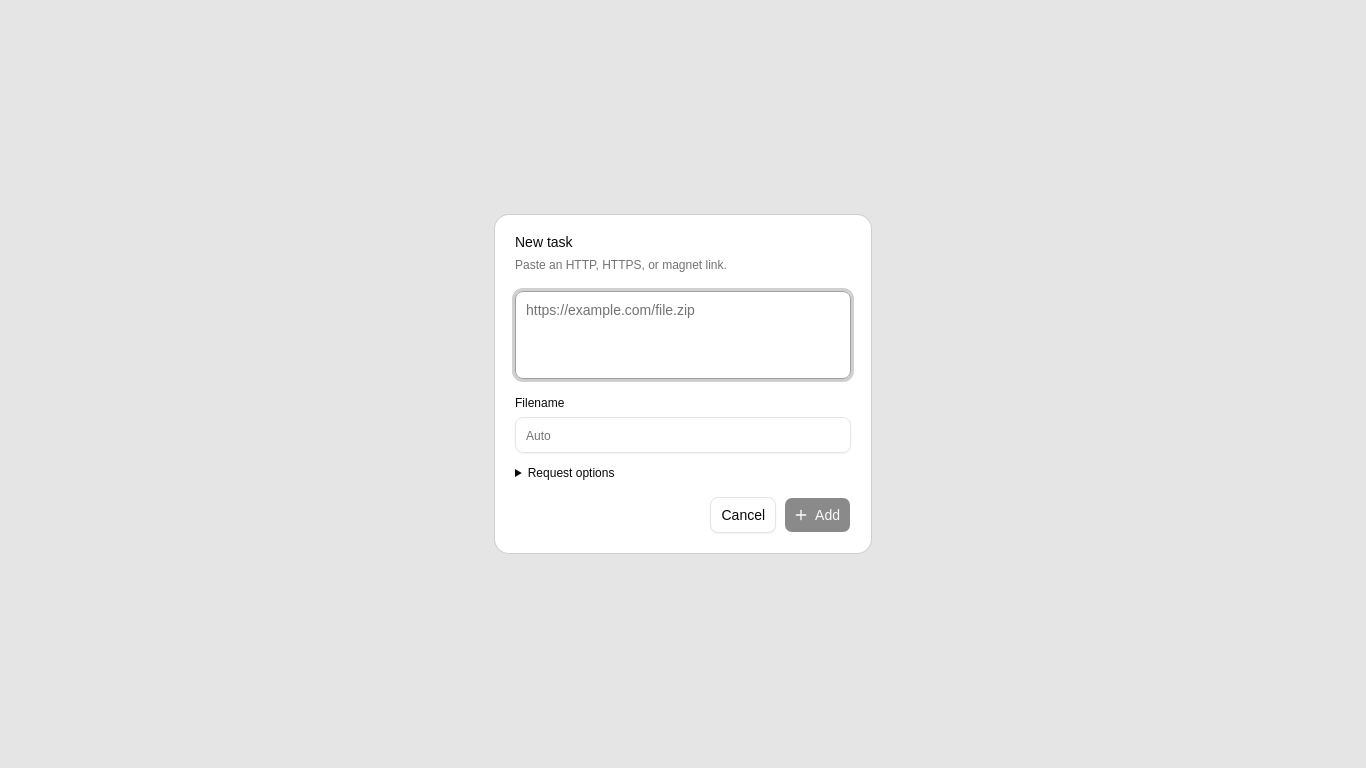
Test: QuickAddTaskDialog › shows stable validation copy and clears it when the input changes
The image size is (1366, 768).
Type "ftp://example.com/file.zip" into the text box named "Download address" at (683, 335), box [515,291,851,379]
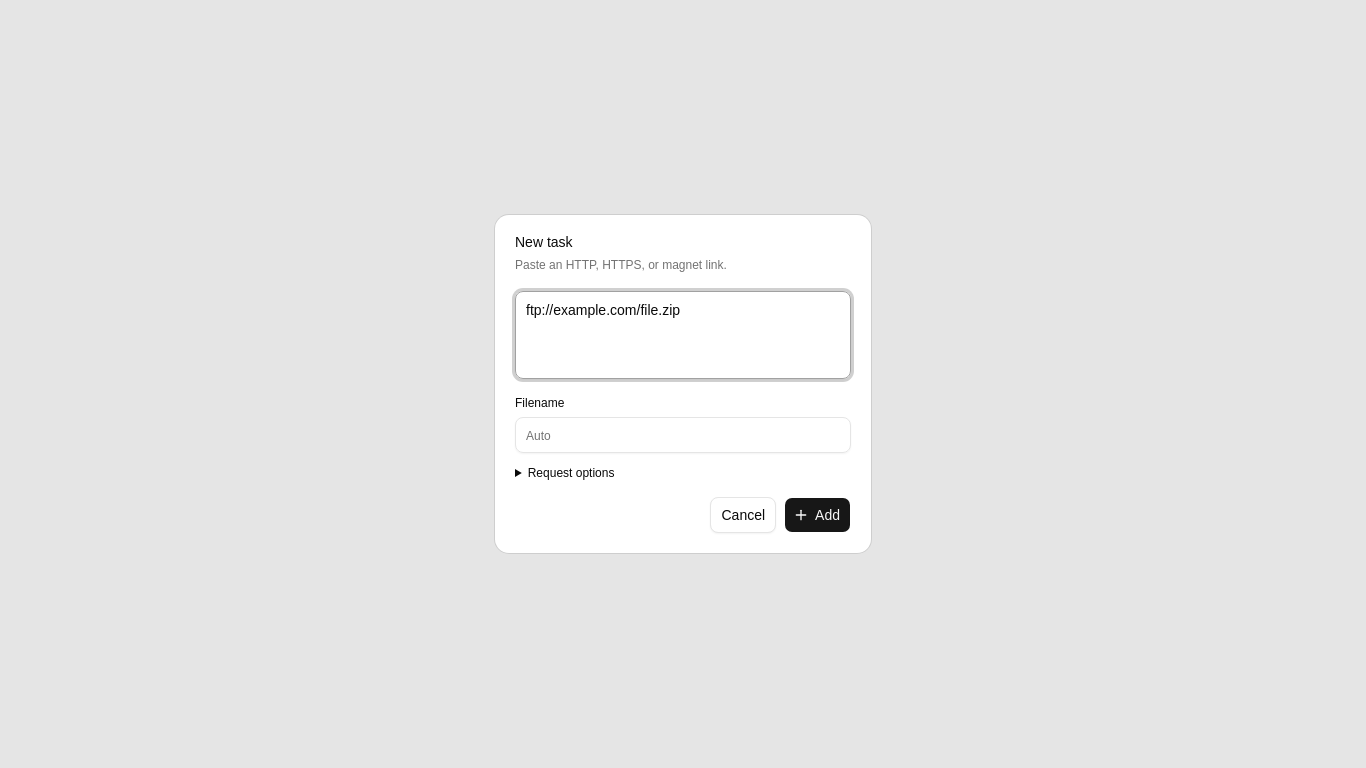
Click the button "Add" at (818, 515), box [784,497,851,533]
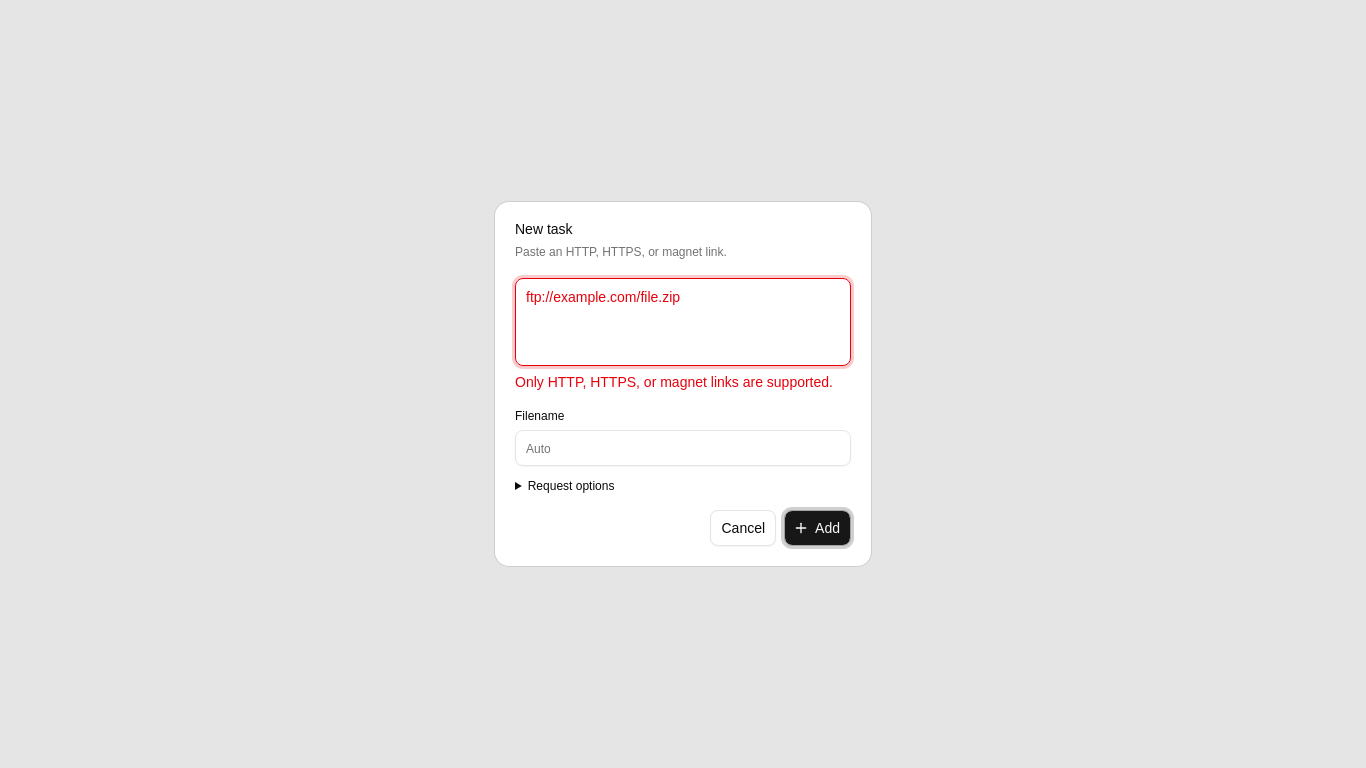
expect the message reads "Only HTTP, HTTPS, or magnet links are supported.": met, box [515,374,833,390]
Type "?changed" into the text box named "Download address" at (683, 322), box [515,278,851,366]
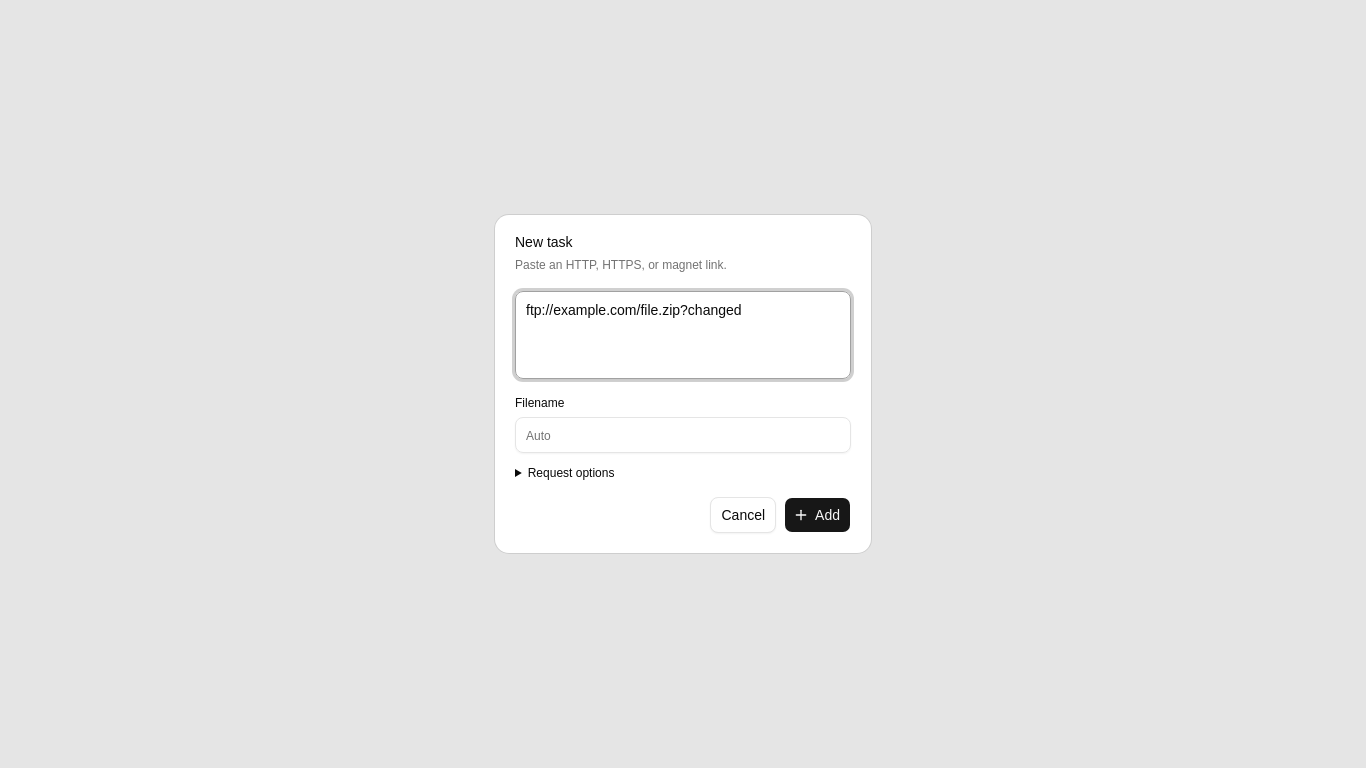
expect the message "Only HTTP, HTTPS, or magnet links are supported." is gone: met
